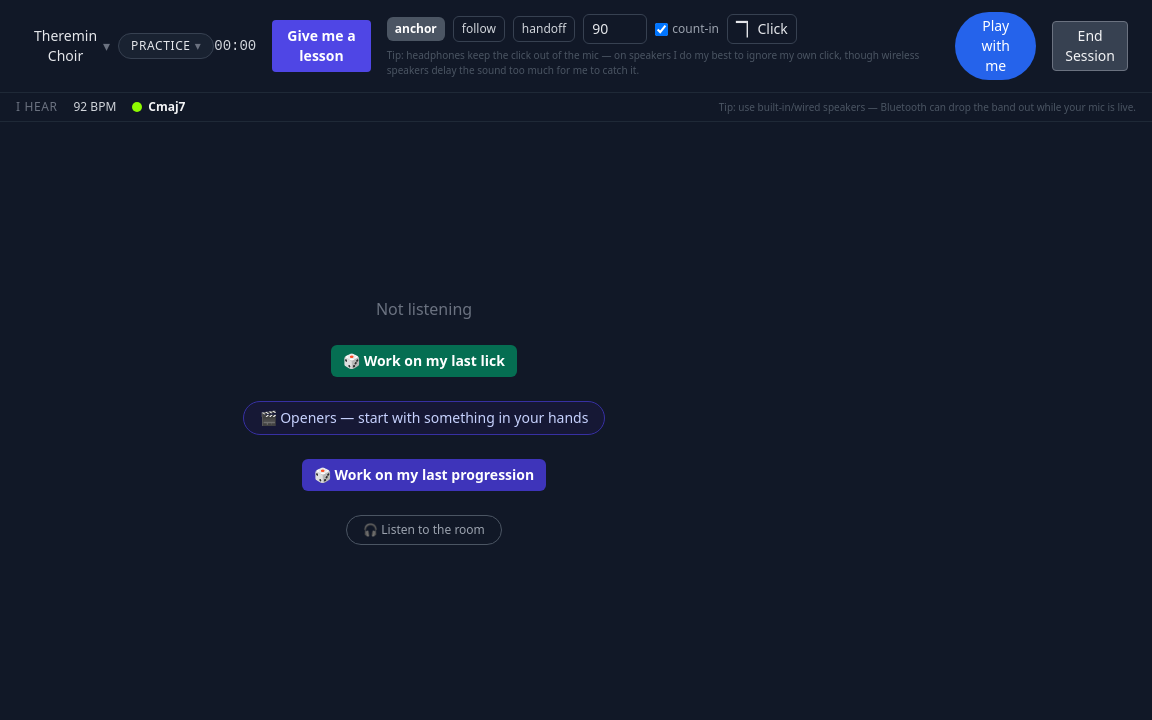
Test: PracticeSession › fails open when the active instrument is missing from the catalog
Step 1. Click the button with test id "instrument-switch-button" → (71, 46), box [24, 22, 118, 70]
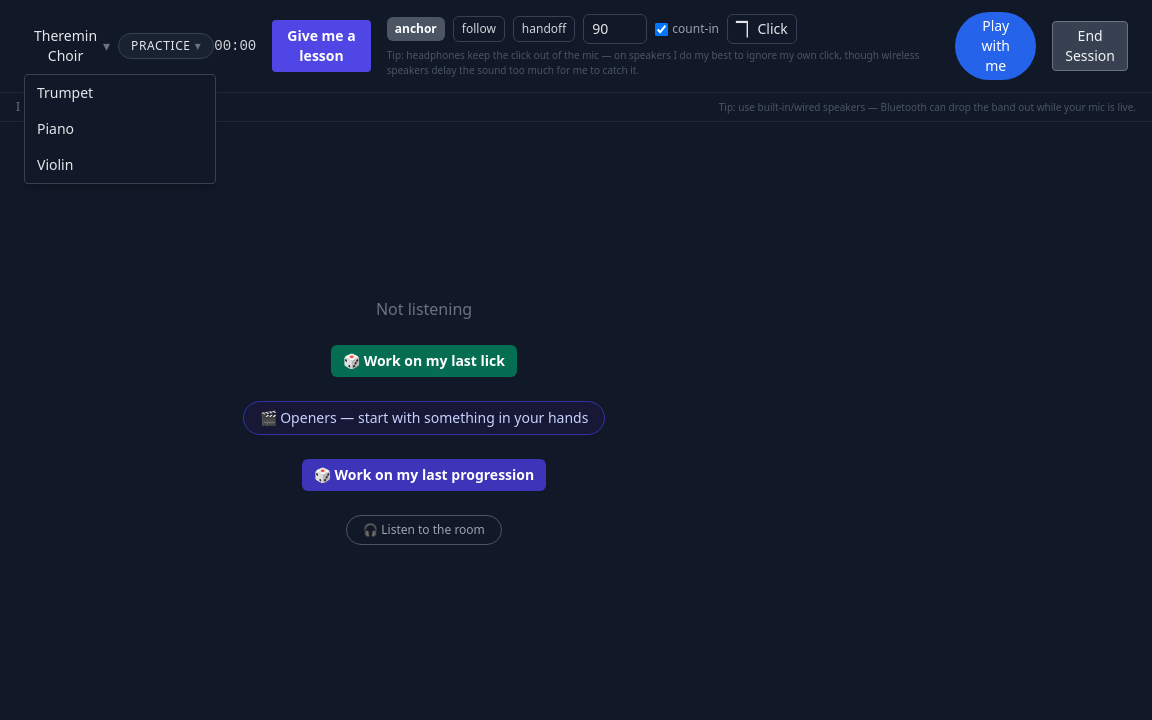
Now the option with test id "instrument-switch-option-piano" is shown, box [25, 111, 215, 147]
